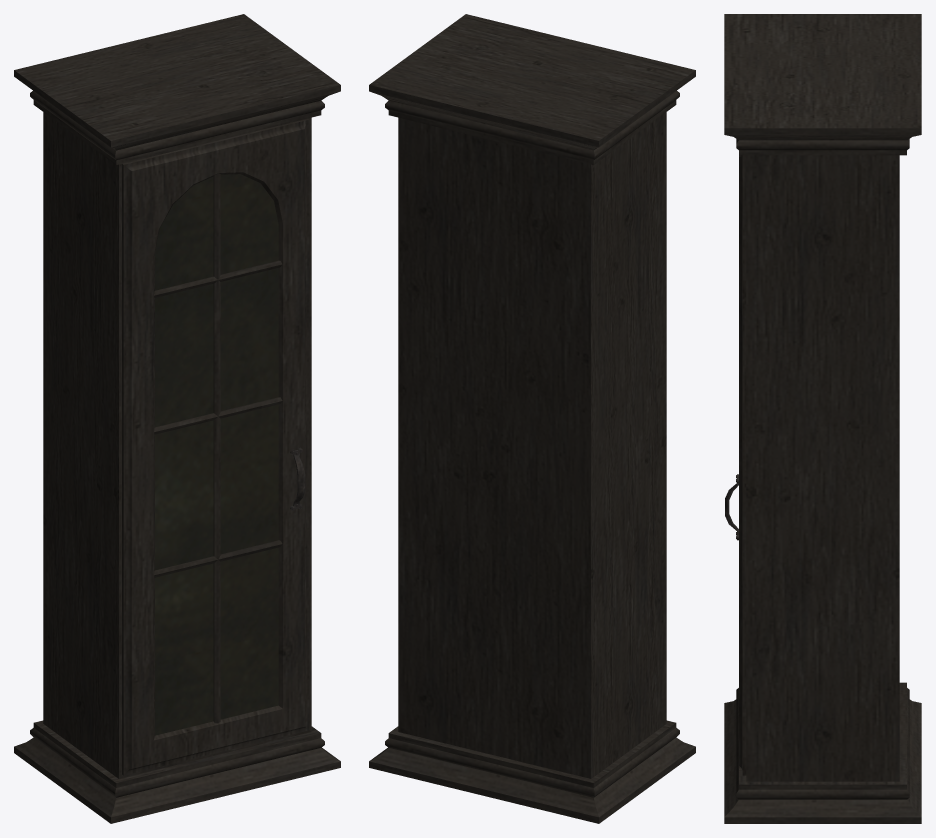
File: display_cabinet_mp_1.obj
3 renders of one model, left to right at view 1: azimuth 30°, elevation 25°; view 2: azimuth 150°, elevation 25°; view 3: azimuth 270°, elevation 25°, orthographic.
Visible parts, largest first — view 1: display_cabinet_mp_1_door, display_cabinet_mp_1; view 2: display_cabinet_mp_1; view 3: display_cabinet_mp_1, display_cabinet_mp_1_door.
Boxes of the visible parts, x1,y1,x2,y2 form: display_cabinet_mp_1_door: (122, 118, 309, 775); display_cabinet_mp_1: (14, 14, 340, 823); display_cabinet_mp_1: (369, 14, 695, 823); display_cabinet_mp_1: (724, 14, 921, 823); display_cabinet_mp_1_door: (725, 155, 746, 775).
Size of the model in its own units: 0.74 by 2.1 by 0.54.
